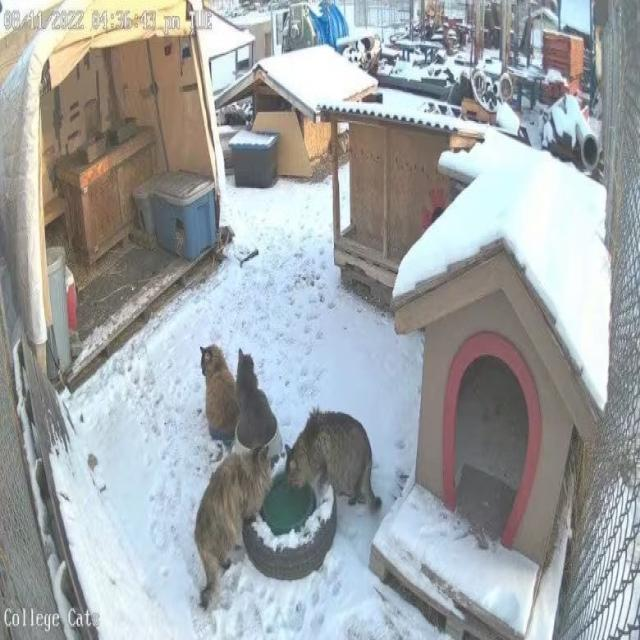cat: (195, 446, 271, 605), (285, 409, 381, 511), (236, 349, 278, 448), (201, 344, 239, 443)
